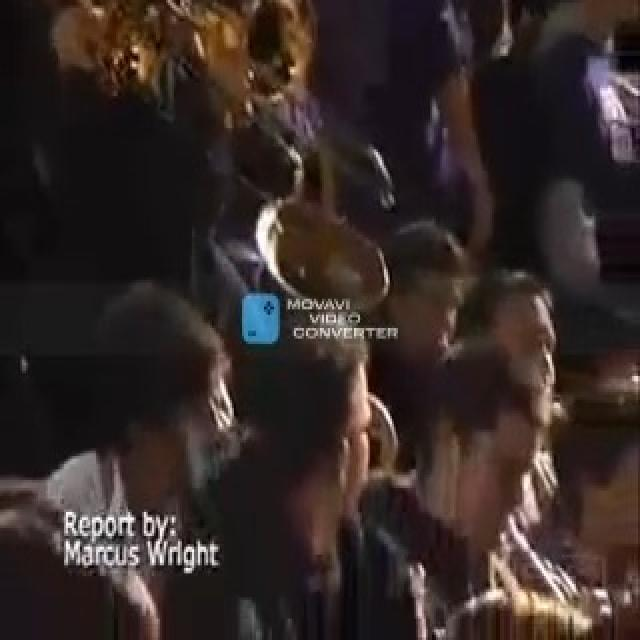non-voilence: (0, 0, 636, 637), (58, 504, 222, 576)
